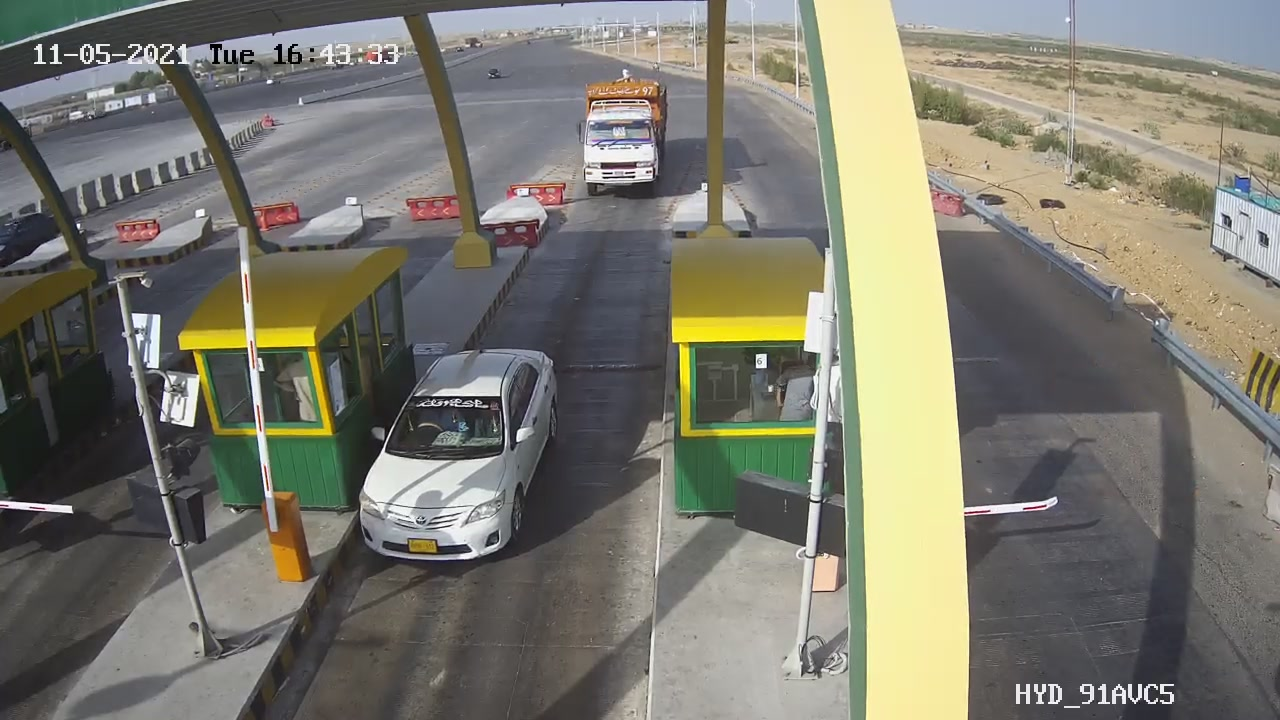F1: (328, 327, 585, 590)
